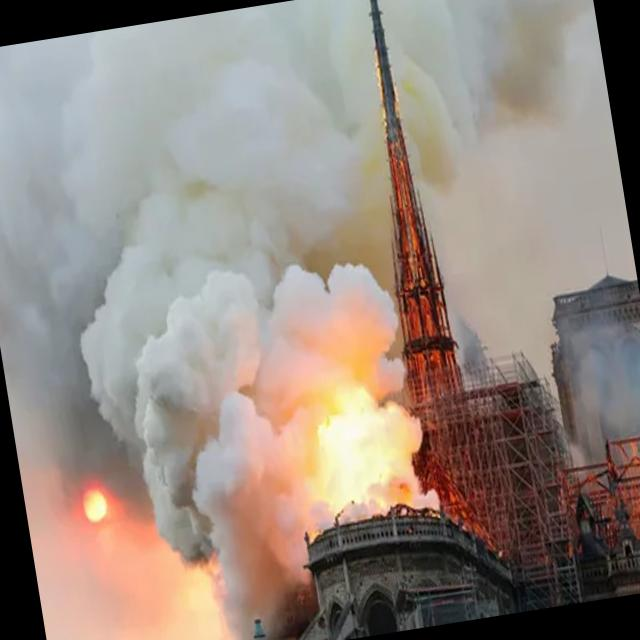Smoke: (60, 159, 459, 640)
